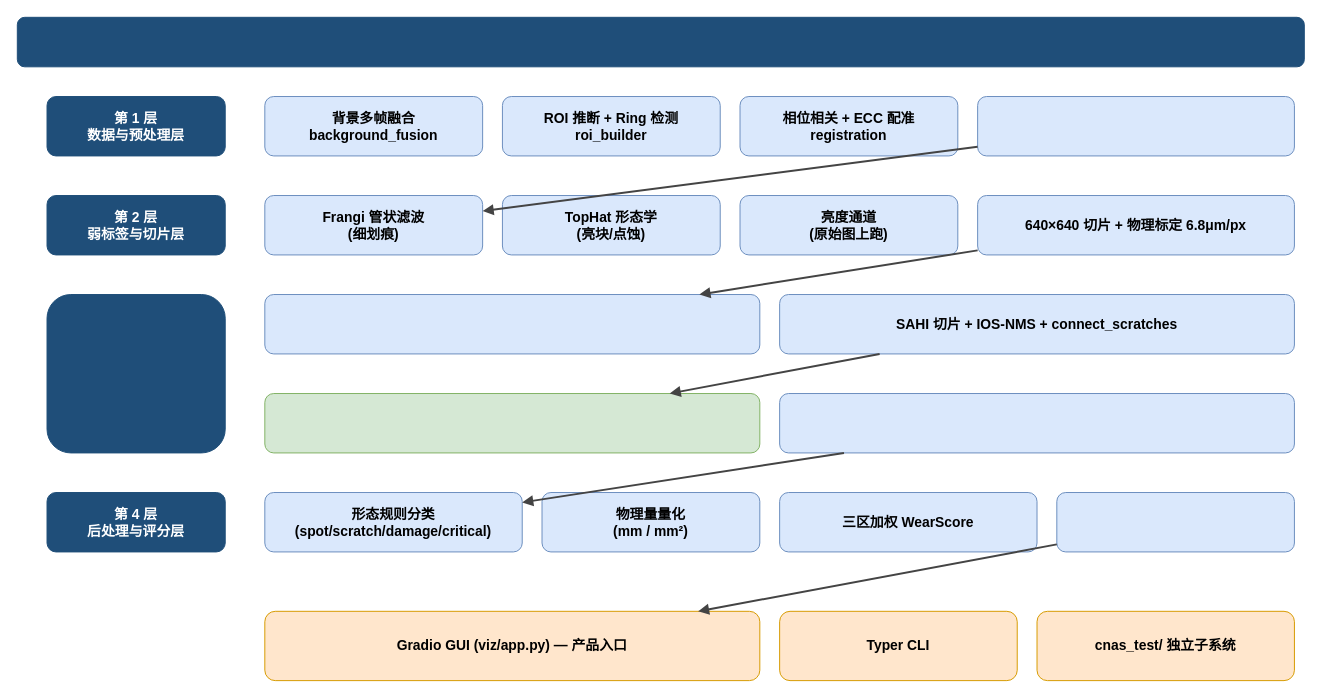
This 1322x698 diagram has some shape labels left out. Each missing label, with the box of its shape:
A / B / C / D 等级: (1056, 492, 1294, 552)
darkfield-defects 系统四层主线总体架构: (16, 16, 1304, 67)
LightUNet / Unet++ / FPN / DeepLabV3+ / SegFormer-B2 / HRNet-OCR: (779, 393, 1294, 453)
亮度修正 / brightness_correction: (977, 96, 1294, 156)
分割主线 双源域 (MSD → 私有弱标签): (264, 393, 760, 453)
检测主线 YOLOv12m + NWD 头 (b2_nwd_only_phase3e 默认权重): (264, 294, 760, 354)
第 3 层 检测+分割 双主线: (46, 294, 225, 453)
